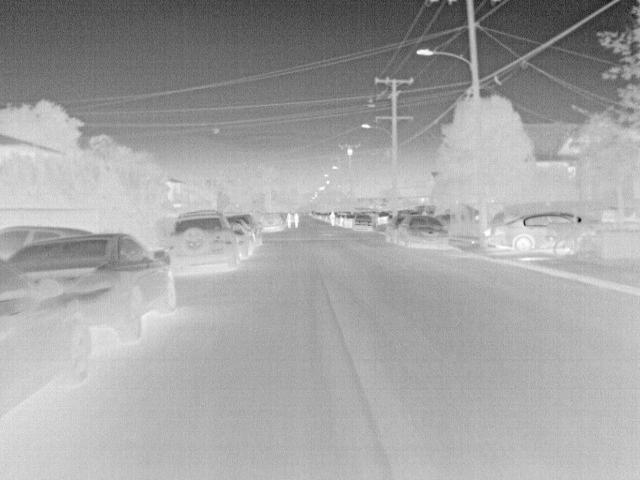car: (8, 234, 181, 340), (1, 260, 94, 426), (488, 210, 597, 252), (171, 209, 239, 276), (1, 224, 97, 262), (396, 214, 452, 246), (233, 222, 255, 259), (385, 216, 407, 244), (262, 211, 288, 231), (353, 213, 374, 230), (377, 211, 392, 226), (343, 214, 357, 228)
person: (328, 210, 338, 228), (292, 212, 301, 229), (286, 211, 293, 231)
